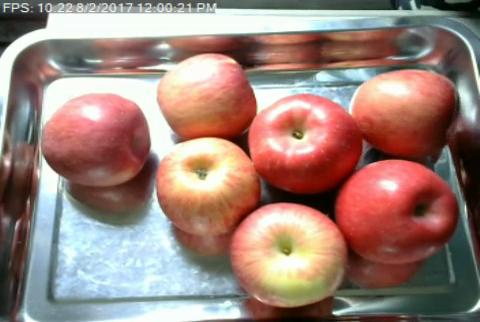apple: (336, 159, 459, 264), (231, 204, 345, 307), (250, 94, 360, 193), (42, 92, 149, 189), (156, 140, 262, 235), (349, 70, 460, 160), (158, 53, 256, 138)
